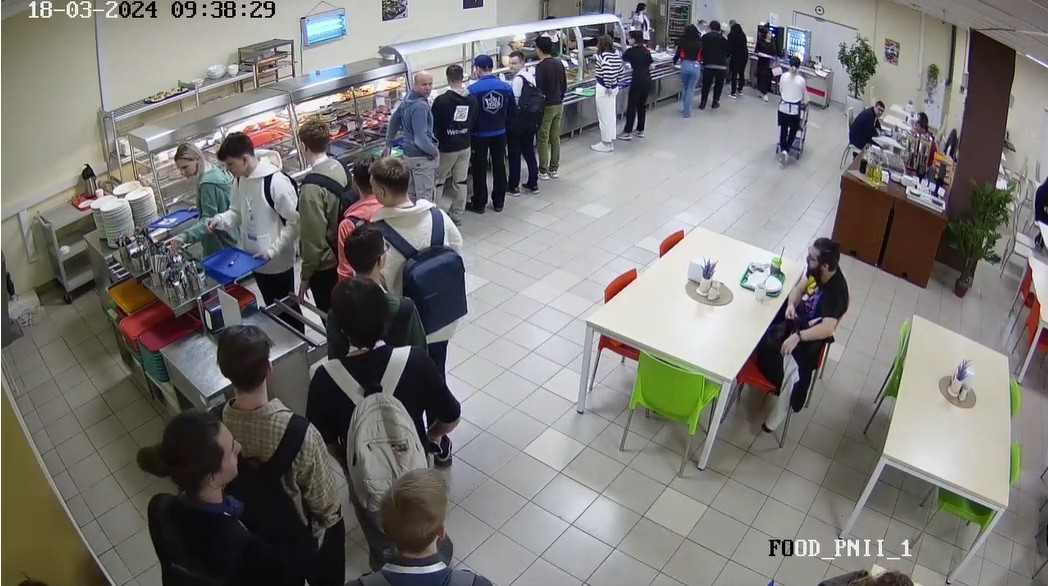Na_Kasse: (703, 14, 728, 109), (677, 26, 700, 117), (730, 15, 751, 101), (754, 27, 775, 102)
Ne_v_Ocheredi: (141, 407, 289, 586), (305, 283, 447, 465), (209, 330, 319, 494), (371, 461, 482, 586), (370, 173, 464, 314), (341, 227, 405, 315), (348, 152, 372, 218)
Personal: (775, 57, 805, 157), (624, 0, 650, 34), (505, 21, 530, 48)
Vybiraet: (219, 137, 298, 296), (294, 130, 348, 284), (160, 134, 221, 247), (468, 55, 503, 211), (501, 47, 536, 195), (534, 34, 570, 176), (438, 64, 474, 204), (392, 73, 442, 172), (586, 33, 615, 157), (622, 33, 649, 143)
Za_Stolom: (743, 217, 850, 363), (796, 527, 914, 586), (840, 102, 889, 166), (1021, 167, 1048, 266), (911, 115, 941, 149)
